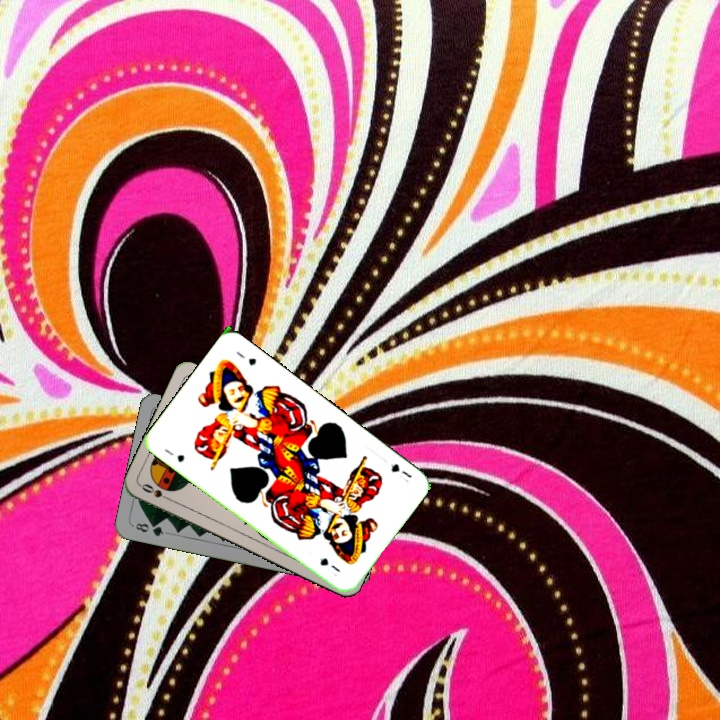G8: (129, 519, 166, 539)
GU: (387, 459, 415, 481), (160, 444, 187, 465)
SO: (137, 479, 175, 504)
